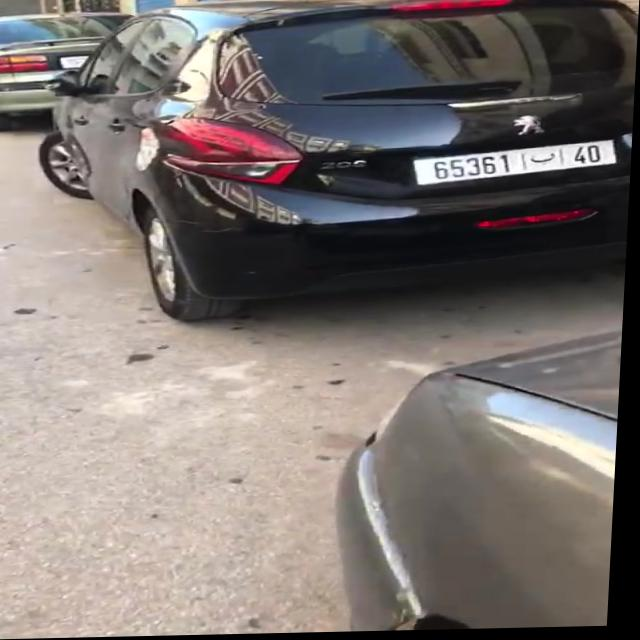License-Plate: (415, 143, 618, 187)
